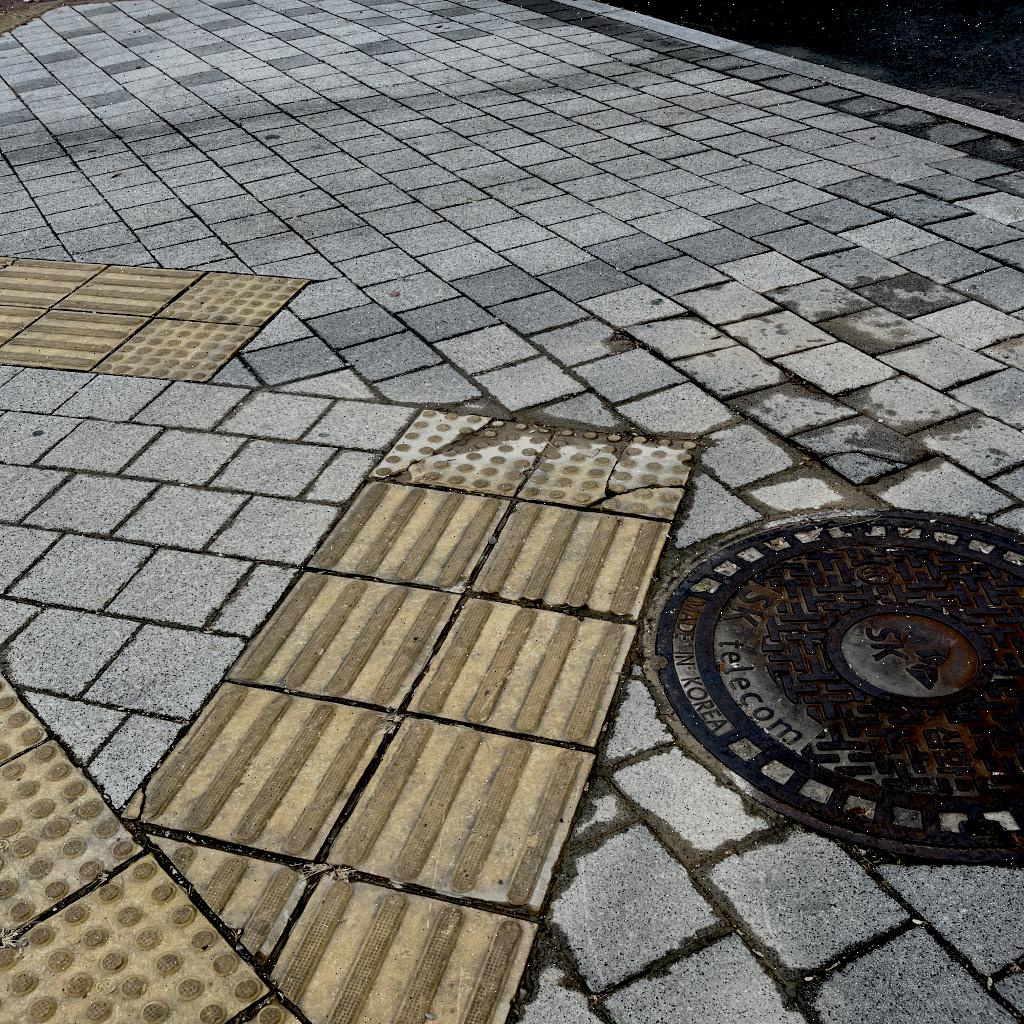Stop block broken: (371, 403, 554, 502), (518, 426, 699, 521)
Stop block normal: (94, 313, 259, 386)
Straight block broken: (119, 668, 393, 867)
Straight block normal: (322, 708, 594, 921), (408, 591, 636, 749), (225, 563, 459, 716), (307, 476, 509, 596), (472, 498, 669, 621)
